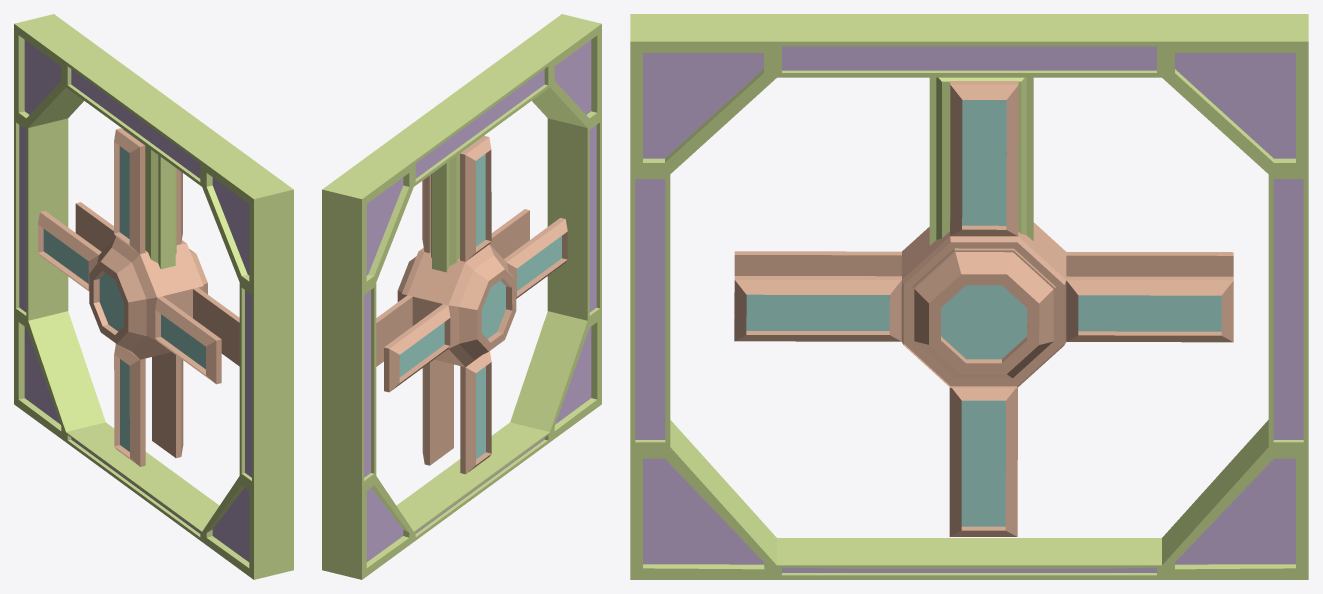
The model's file is Character_Rooms_Fan.fbx.
The picture shows the model from 3 angles, left to right: view 1: azimuth 30°, elevation 25°; view 2: azimuth 150°, elevation 25°; view 3: azimuth 270°, elevation 25°; orthographic projection. The views are drawn at different scales.
Visible parts, largest first — view 1: FanOut, Fan; view 2: FanOut, Fan; view 3: FanOut, Fan.
Boxes of the visible parts, <box> form: FanOut: <box>14,14,293,579</box>; Fan: <box>38,128,239,466</box>; FanOut: <box>322,14,601,579</box>; Fan: <box>376,136,567,474</box>; FanOut: <box>630,14,1308,579</box>; Fan: <box>734,81,1233,536</box>.
Bounding box in the file's own units: 146 × 667 × 762.
